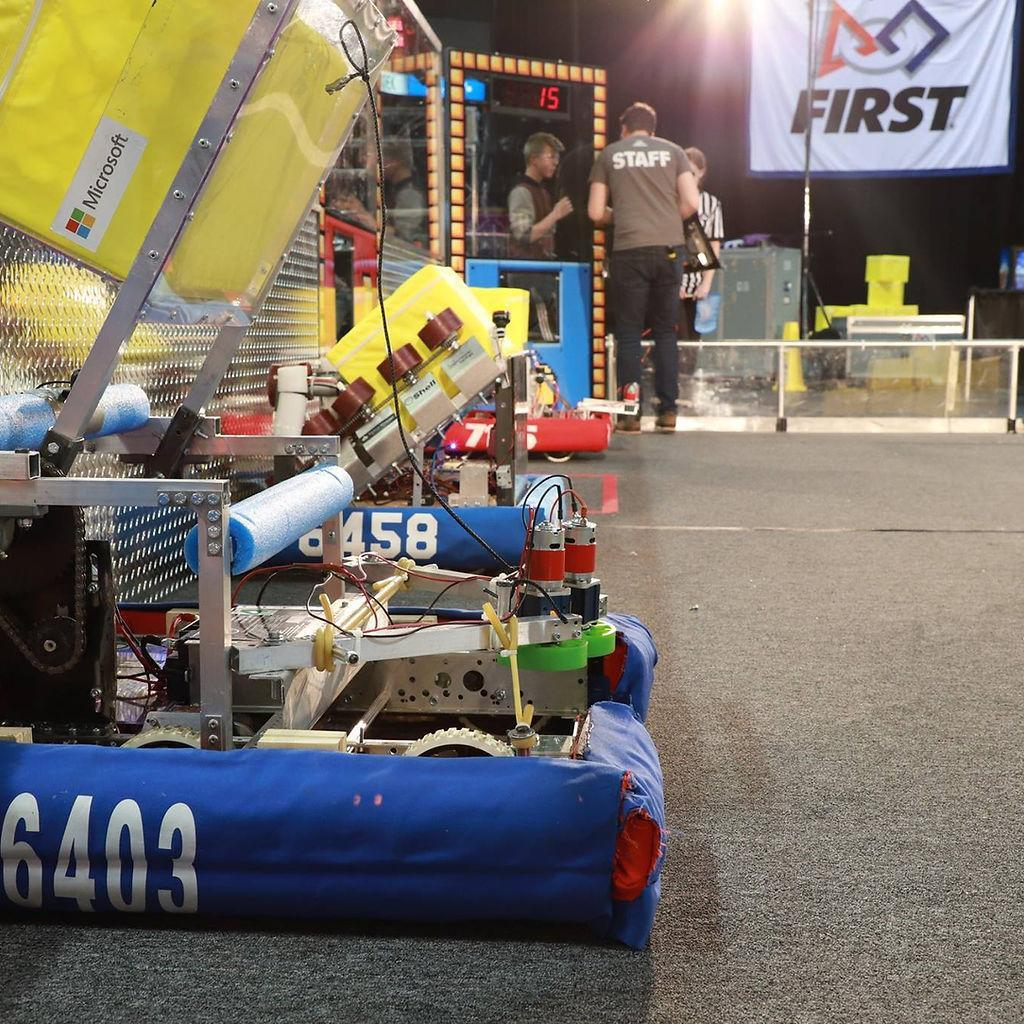robot: (0, 0, 676, 953), (183, 260, 573, 586), (394, 270, 646, 473)
